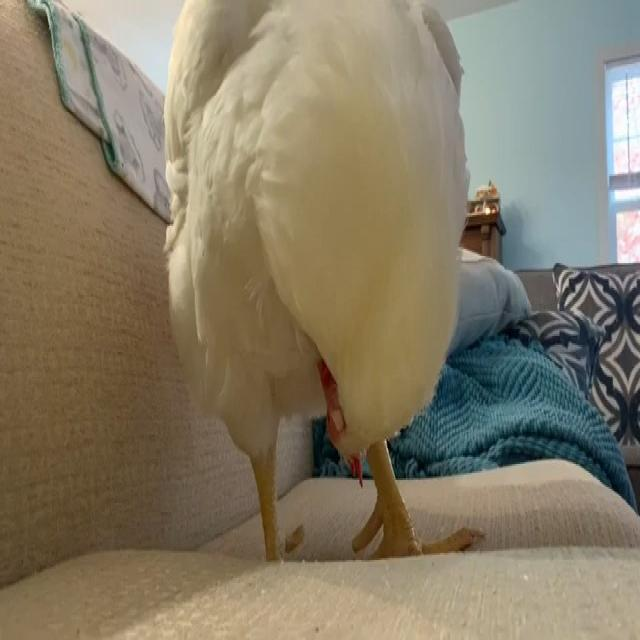self preening: (166, 0, 472, 583)
